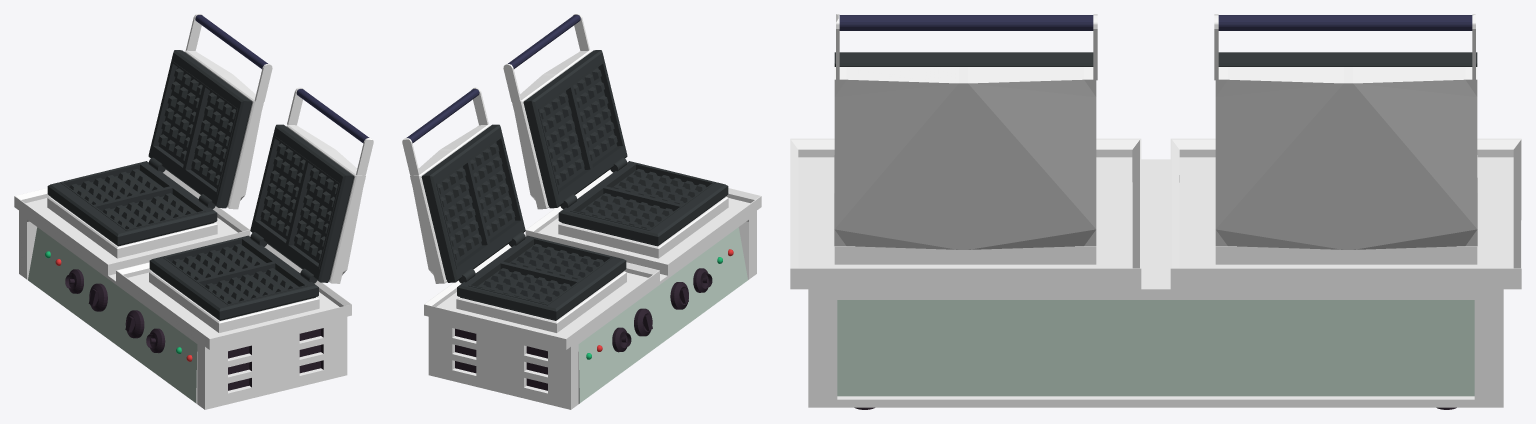
Rendered from Gofrownica.v3.fbx.
The picture shows the model from 3 angles, left to right: view 1: azimuth 30°, elevation 25°; view 2: azimuth 150°, elevation 25°; view 3: azimuth 270°, elevation 25°; orthographic projection. The views are drawn at different scales.
Visible parts, largest first — view 1: Gofrownica.v3; view 2: Gofrownica.v3; view 3: Gofrownica.v3.
Boxes of the visible parts, x1=… form: Gofrownica.v3: x1=14, y1=14, x2=373, y2=409; Gofrownica.v3: x1=402, y1=14, x2=761, y2=409; Gofrownica.v3: x1=790, y1=14, x2=1521, y2=409.
Bounding box in the file's own units: 2.01 × 3.76 × 2.44.
